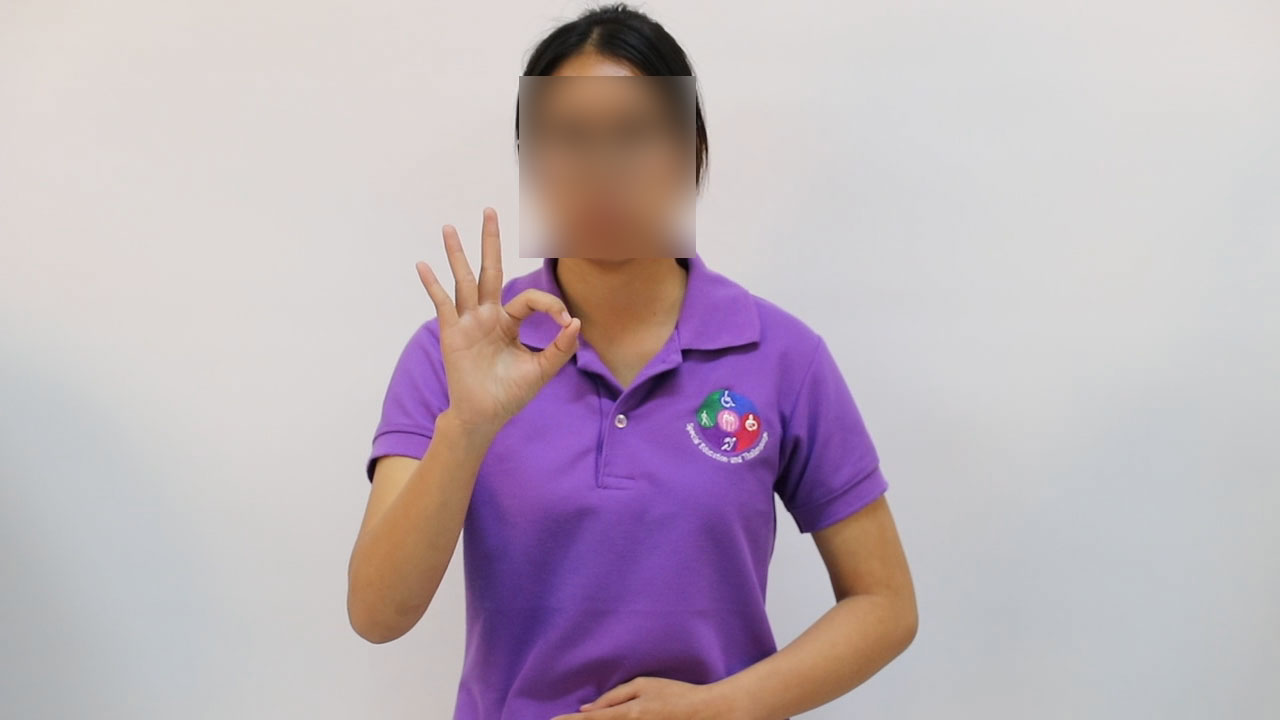for: (405, 192, 587, 429)
